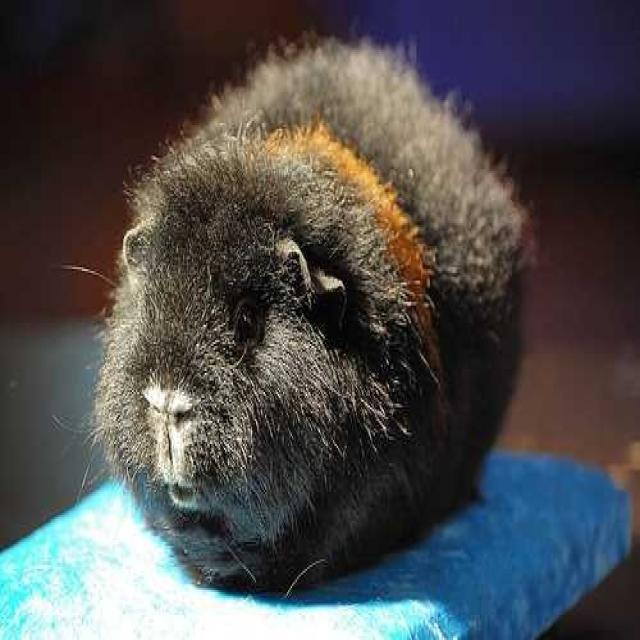guinea pig: (98, 42, 536, 590)
